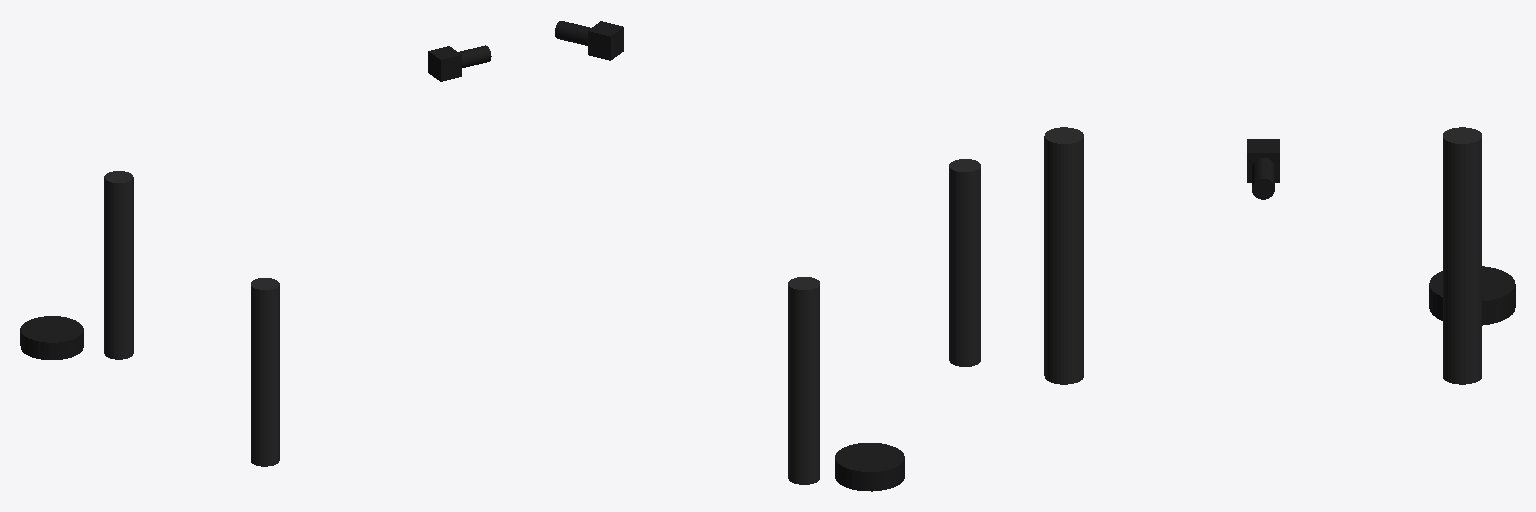
URDF robot description (jackal):
<?xml version="1.0"?>
<robot name="jackal">
  <material name="dark_grey">
    <color rgba="0.2 0.2 0.2 1.0" />
  </material>
  <material name="light_grey">
    <color rgba="0.4 0.4 0.4 1.0" />
  </material>
  <material name="yellow">
    <color rgba="0.8 0.8 0.0 1.0" />
  </material>
  <material name="black">
    <color rgba="0.15 0.15 0.15 1.0" />
  </material>
  <!-- JACKAL BASE -->
  <!-- ..................... -->
  <link name="base_footprint" />
  <link name="base_link">
    <visual>
      <origin rpy="1.57079632679 0 1.57079632679" xyz="0 0 -0.0655" />
      <geometry>
        <mesh filename="file:///workspaces/2022-TUB-MARS-autopilot/src/jackal_custom/meshes/jackal-base.stl" />
      </geometry>
      <material name="dark_grey" />
    </visual>
    <collision>
      <origin xyz="0 0 0.092" />
      <geometry>
        <box size="0.42 0.31 0.184" />
      </geometry>
    </collision>
    <inertial>
      <!-- Center of mass -->
      <origin rpy="0 0 0" xyz="0.012  0.002 0.067" />
      <mass value="16.523" />
      <!-- Moments of inertia: ( chassis without wheels ) -->
      <inertia ixx="0.3136" ixy="-0.0008" ixz="0.0164" iyy="0.3922" iyz="-0.0009" izz="0.4485" />
    </inertial>
  </link>
  <joint name="base_footprint_joint" type="fixed">
    <origin rpy="0 0 0" xyz="0 0 0" />
    <parent link="base_footprint" />
    <child link="base_link" />
  </joint>
  <link name="front_left_wheel_link">
    <visual>
      <origin rpy="0 0 0" xyz="0 0 0" />
      <geometry>
        <mesh filename="file:///workspaces/2022-TUB-MARS-autopilot/src/jackal_custom/meshes/jackal-wheel.stl" />
      </geometry>
      <material name="black" />
    </visual>
    <collision>
      <origin rpy="0 0 0" xyz="0 0 0" />
      <geometry>
        <cylinder length="0.04" radius="0.098" />
      </geometry>
    </collision>
    <inertial>
      <origin rpy="0 0 0" xyz="0 0 0" />
      <mass value="0.477" />
      <inertia ixx="0.0013" ixy="0" ixz="0" iyy="0.0024" iyz="0" izz="0.0013" />
    </inertial>
  </link>
  <joint name="front_left_wheel_joint" type="continuous">
    <parent link="base_link" />
    <child link="front_left_wheel_link" />
    <origin rpy="0 0 0" xyz="0.131 0.187795 0.0345" />
    <axis xyz="0 1 0" />
  </joint>
  <link name="front_right_wheel_link">
    <visual>
      <origin rpy="0 0 0" xyz="0 0 0" />
      <geometry>
        <mesh filename="file:///workspaces/2022-TUB-MARS-autopilot/src/jackal_custom/meshes/jackal-wheel.stl" />
      </geometry>
      <material name="black" />
    </visual>
    <collision>
      <origin rpy="0 0 0" xyz="0 0 0" />
      <geometry>
        <cylinder length="0.04" radius="0.098" />
      </geometry>
    </collision>
    <inertial>
      <origin rpy="0 0 0" xyz="0 0 0" />
      <mass value="0.477" />
      <inertia ixx="0.0013" ixy="0" ixz="0" iyy="0.0024" iyz="0" izz="0.0013" />
    </inertial>
  </link>
  <joint name="front_right_wheel_joint" type="continuous">
    <parent link="base_link" />
    <child link="front_right_wheel_link" />
    <origin rpy="0 0 0" xyz="0.131 -0.187795 0.0345" />
    <axis xyz="0 1 0" />
  </joint>
  <link name="rear_left_wheel_link">
    <visual>
      <origin rpy="0 0 0" xyz="0 0 0" />
      <geometry>
        <mesh filename="file:///workspaces/2022-TUB-MARS-autopilot/src/jackal_custom/meshes/jackal-wheel.stl" />
      </geometry>
      <material name="black" />
    </visual>
    <collision>
      <origin rpy="0 0 0" xyz="0 0 0" />
      <geometry>
        <cylinder length="0.04" radius="0.098" />
      </geometry>
    </collision>
    <inertial>
      <origin rpy="0 0 0" xyz="0 0 0" />
      <mass value="0.477" />
      <inertia ixx="0.0013" ixy="0" ixz="0" iyy="0.0024" iyz="0" izz="0.0013" />
    </inertial>
  </link>
  <joint name="rear_left_wheel_joint" type="continuous">
    <parent link="base_link" />
    <child link="rear_left_wheel_link" />
    <origin rpy="0 0 0" xyz="-0.131 0.187795 0.0345" />
    <axis xyz="0 1 0" />
  </joint>
  <link name="rear_right_wheel_link">
    <visual>
      <origin rpy="0 0 0" xyz="0 0 0" />
      <geometry>
        <mesh filename="file:///workspaces/2022-TUB-MARS-autopilot/src/jackal_custom/meshes/jackal-wheel.stl" />
      </geometry>
      <material name="black" />
    </visual>
    <collision>
      <origin rpy="0 0 0" xyz="0 0 0" />
      <geometry>
        <cylinder length="0.04" radius="0.098" />
      </geometry>
    </collision>
    <inertial>
      <origin rpy="0 0 0" xyz="0 0 0" />
      <mass value="0.477" />
      <inertia ixx="0.0013" ixy="0" ixz="0" iyy="0.0024" iyz="0" izz="0.0013" />
    </inertial>
  </link>
  <joint name="rear_right_wheel_joint" type="continuous">
    <parent link="base_link" />
    <child link="rear_right_wheel_link" />
    <origin rpy="0 0 0" xyz="-0.131 -0.187795 0.0345" />
    <axis xyz="0 1 0" />
  </joint>
  <link name="front_fender_link">
    <visual>
      <geometry>
        <mesh filename="file:///workspaces/2022-TUB-MARS-autopilot/src/jackal_custom/meshes/jackal-fender.stl" />
      </geometry>
      <material name="yellow" />
    </visual>
    <collision>
      <geometry>
        <mesh filename="file:///workspaces/2022-TUB-MARS-autopilot/src/jackal_custom/meshes/jackal-fender.stl" />
      </geometry>
    </collision>
  </link>
  <joint name="front_fender_joint" type="fixed">
    <origin rpy="0 0 0" xyz="0 0 0" />
    <parent link="base_link" />
    <child link="front_fender_link" />
  </joint>
  <link name="rear_fender_link">
    <visual>
      <geometry>
        <mesh filename="file:///workspaces/2022-TUB-MARS-autopilot/src/jackal_custom/meshes/jackal-fender.stl" />
      </geometry>
      <material name="yellow" />
    </visual>
    <collision>
      <geometry>
        <mesh filename="file:///workspaces/2022-TUB-MARS-autopilot/src/jackal_custom/meshes/jackal-fender.stl" />
      </geometry>
    </collision>
  </link>
  <joint name="rear_fender_joint" type="fixed">
    <origin rpy="0 0 3.14159265359" xyz="0 0 0" />
    <parent link="base_link" />
    <child link="rear_fender_link" />
  </joint>
  <link name="imu_link">
    <inertial>
      <mass value="0.010" />
      <origin rpy="0 0 0" xyz="0 0 0" />
      <inertia ixx="1e-09" ixy="0.0" ixz="0.0" iyy="1e-09" iyz="0.0" izz="1e-09" />
    </inertial>
  </link>
  <joint name="imu_joint" type="fixed">
    <parent link="base_link" />
    <child link="imu_link" />
  </joint>
  <link name="navsat_link">
    <visual>
      <geometry>
        <cylinder length="0.016" radius="0.026" />
      </geometry>
      <origin xyz="0 0 0.008" />
      <material name="black" />
    </visual>
  </link>
  <joint name="navsat_joint" type="fixed">
    <parent link="base_link" />
    <child link="navsat_link" />
    <origin xyz="-0.180 0.126 0.1815" />
  </joint>
  <link name="mid_mount" />
  <joint name="mid_mount_joint" type="fixed">
    <parent link="base_link" />
    <child link="mid_mount" />
    <origin xyz="0 0 0.184" />
  </joint>
  <link name="rear_mount" />
  <joint name="rear_mount_joint" type="fixed">
    <parent link="mid_mount" />
    <child link="rear_mount" />
    <origin xyz="-0.12 0 0" />
  </joint>
  <link name="front_mount" />
  <joint name="front_mount_joint" type="fixed">
    <parent link="mid_mount" />
    <child link="front_mount" />
    <origin xyz="0.12 0 0" />
  </joint>
  <link name="left_antenna_link">
    <visual>
      <origin rpy="0 0 0" xyz="0 0 0" />
      <geometry>
        <cylinder length="0.16" radius="0.012" />
      </geometry>
      <material name="dark_grey" />
    </visual>
    <collision>
      <origin rpy="0 0 0" xyz="0 0 0" />
      <geometry>
        <cylinder length="0.16" radius="0.01" />
      </geometry>
    </collision>
    <inertial>
      <origin rpy="0 0 0" xyz="0.0 0.0 0.065" />
      <mass value="0.025" />
      <inertia ixx="0.000021209" ixy="-2.7e-08" ixz="-3.24078261e-08" iyy="3.9202e-05" iyz="-6.258e-06" izz="0.000186722" />
    </inertial>
  </link>
  <joint name="left_antenna_joint" type="fixed">
    <origin rpy="0 0 0" xyz="0.0 -0.12 0.06" />
    <parent link="rear_mount" />
    <child link="left_antenna_link" />
  </joint>
  <link name="right_antenna_link">
    <visual>
      <origin rpy="0 0 0" xyz="0 0 0" />
      <geometry>
        <cylinder length="0.16" radius="0.012" />
      </geometry>
      <material name="dark_grey" />
    </visual>
    <collision>
      <origin rpy="0 0 0" xyz="0 0 0" />
      <geometry>
        <cylinder length="0.16" radius="0.01" />
      </geometry>
    </collision>
    <inertial>
      <origin rpy="0 0 0" xyz="0.0 0.0 0.065" />
      <mass value="0.025" />
      <inertia ixx="0.000021209" ixy="-2.7e-08" ixz="-3.24078261e-08" iyy="3.9202e-05" iyz="-6.258e-06" izz="0.000186722" />
    </inertial>
  </link>
  <joint name="right_antenna_joint" type="fixed">
    <origin rpy="0 0 0" xyz="0.0 0.12 0.06" />
    <parent link="rear_mount" />
    <child link="right_antenna_link" />
  </joint>
  <!-- LASER SCANNER -->
  <!-- ..................... -->
  <link name="laser_link">
    <inertial>
      <mass value="1.1" />
      <origin xyz="0 0 0" />
      <inertia ixx="0.00307156543804" ixy="0.0" ixz="0.0" iyy="0.00312849041527" iyz="0.0" izz="0.00196432421427" />
    </inertial>
    <visual>
      <origin rpy="0 0 0" xyz="0 0 0" />
      <geometry>
        <!-- Origin of this mesh is the focal point of the LIDAR. -->
        <mesh filename="file:///workspaces/2022-TUB-MARS-autopilot/src/jackal_custom/meshes/sick-lms1xx.stl" />
      </geometry>
      <material name="light_grey">
        <color rgba="0.8 0.8 0.8 0.8" />
      </material>
    </visual>
    <collision>
      <origin rpy="0 0 0" xyz="0 0 -0.05" />
      <geometry>
        <box size="0.105 0.1 0.1" />
      </geometry>
    </collision>
  </link>
  <link name="laser_mount">
    <visual>
      <origin rpy="0 0 0" xyz="0 0 0" />
      <geometry>
        <!-- Origin of this mesh is the base of the bracket. -->
        <mesh filename="file:///workspaces/2022-TUB-MARS-autopilot/src/jackal_custom/meshes/sick-lms1xx-bracket.stl" />
      </geometry>
      <material name="dark_grey" />
    </visual>
  </link>
  <joint name="laser_joint" type="fixed">
    <!-- This offset is from the base of the bracket to the LIDAR's focal point. -->
    <origin rpy="3.14159265359 0 0" xyz="0 0 0.06" />
    <parent link="laser_mount" />
    <child link="laser_link" />
  </joint>
  <joint name="laser_mount_joint" type="fixed">
    <parent link="front_mount" />
    <child link="laser_mount" />
    <origin xyz="0 0 0.05" />
  </joint>
  <!-- Camera -->
  <link name="camera_link">
    <visual>
      <geometry>
        <box size="0.02 0.02 0.02" />
      </geometry>
      <material name="black" />
    </visual>
  </link>
  <joint name="camera_joint" type="fixed">
    <origin rpy="0 0 0" xyz="0 0 -0.125" />
    <parent link="laser_link" />
    <child link="camera_link" />
  </joint>
  <link name="camera_lens_link">
    <visual>
      <geometry>
        <cylinder length="0.03" radius="0.007" />
      </geometry>
      <material name="black" />
    </visual>
  </link>
  <joint name="camera_lens_joint" type="fixed">
    <origin rpy="0 1.57079632679 0" xyz="0.025 0 0" />
    <parent link="camera_link" />
    <child link="camera_lens_link" />
  </joint>
</robot>

--- What the picture shows (computed from the rendered views, not written in the file) ---
The picture shows the robot from 3 angles, left to right: view 1: azimuth 30°, elevation 25°; view 2: azimuth 150°, elevation 25°; view 3: azimuth 270°, elevation 25°; orthographic projection.
Robot: jackal — 19 links, 18 joints (4 continuous, 14 fixed); root link base_footprint; default pose: all joints at 0.
Visible links, largest first — view 1: right_antenna_link, left_antenna_link, navsat_link, camera_link; view 2: right_antenna_link, left_antenna_link, navsat_link, camera_link, camera_lens_link; view 3: left_antenna_link, right_antenna_link, navsat_link, camera_link, camera_lens_link.
Boxes of the visible links, box(x1,y1,x2,y2) form: right_antenna_link: box(104, 171, 133, 359); left_antenna_link: box(251, 278, 279, 466); navsat_link: box(20, 316, 83, 359); camera_link: box(428, 46, 461, 81); right_antenna_link: box(788, 277, 819, 484); left_antenna_link: box(949, 159, 980, 366); navsat_link: box(835, 443, 904, 491); camera_link: box(588, 21, 623, 60); camera_lens_link: box(555, 21, 590, 45); left_antenna_link: box(1044, 127, 1083, 384); right_antenna_link: box(1443, 127, 1481, 384); navsat_link: box(1429, 266, 1515, 325); camera_link: box(1247, 139, 1279, 182); camera_lens_link: box(1252, 158, 1274, 199).
Bounding box of the posed robot: 0.366 × 0.284 × 0.265 m (x, y, z).
Geometry: only primitive shapes (box / cylinder / sphere) drawn; not drawn: 9 mesh visuals (reference in a form the renderer does not follow).